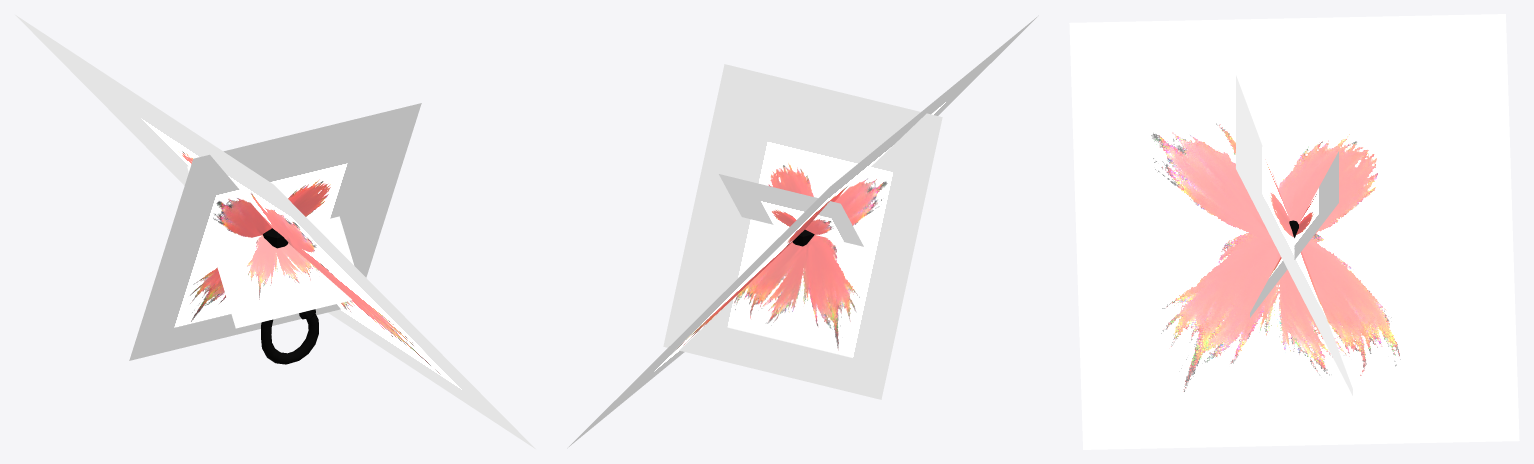
File: Fish hook with outline.FBX
3 views of the same model, side by side, from view 1: azimuth 30°, elevation 25°; view 2: azimuth 150°, elevation 25°; view 3: azimuth 270°, elevation 25° (orthographic). The views are drawn at different scales.
Visible parts, largest first — view 1: Plane001, Plane003, Plane002, Cylinder002; view 2: Plane001, Plane003, Plane002; view 3: Plane003, Plane001, Plane002.
Part boxes in pixels (x1,y1,x2,y2): Plane001: [129, 103, 421, 360]; Plane003: [15, 15, 535, 448]; Plane002: [187, 165, 354, 328]; Cylinder002: [261, 228, 318, 364]; Plane001: [663, 64, 942, 399]; Plane003: [567, 15, 1038, 448]; Plane002: [719, 174, 863, 246]; Plane003: [1069, 14, 1519, 449]; Plane001: [1236, 75, 1352, 395]; Plane002: [1250, 151, 1338, 317].
Size of the model in its own units: 13.19 by 14.61 by 19.43.
